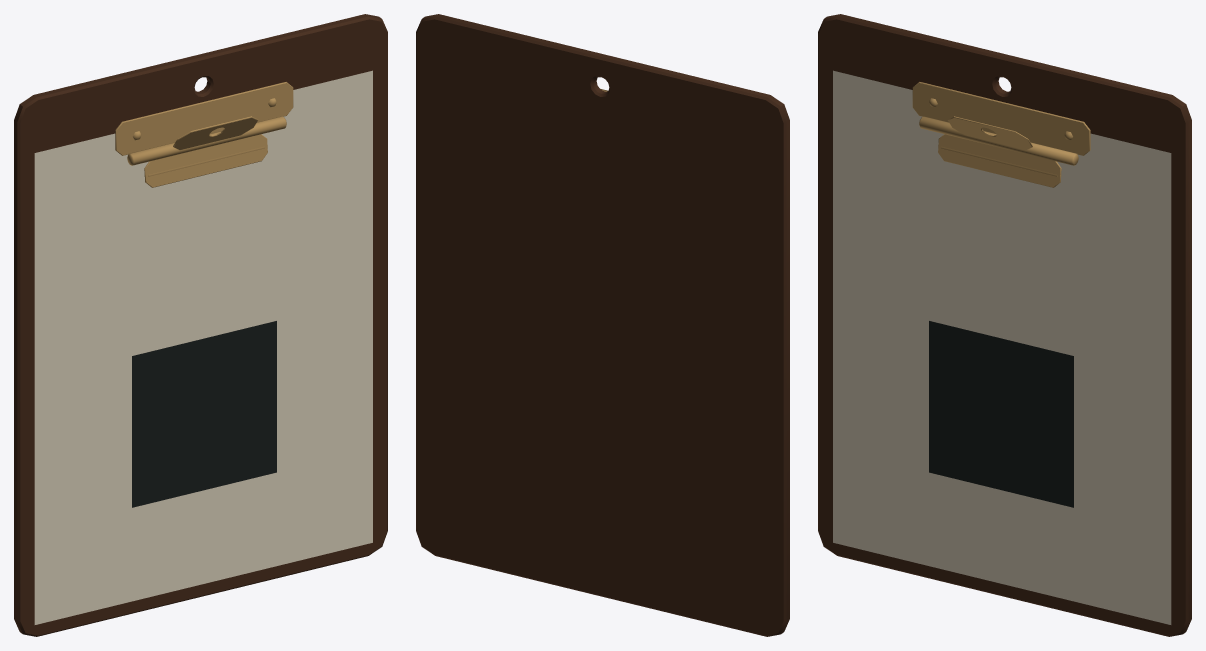
File: growth_log.glb
3 renders of one model, left to right at view 1: azimuth 30°, elevation 25°; view 2: azimuth 150°, elevation 25°; view 3: azimuth 330°, elevation 25°, orthographic.
Parts seen in each view (by area): view 1: log_page, IA_growth_log, log_sketch, log_clip; view 2: IA_growth_log; view 3: log_page, IA_growth_log, log_sketch, log_clip.
Boxes of the visible parts, x1,y1,x2,y2 form: log_page: (34, 70, 372, 624); IA_growth_log: (14, 14, 387, 636); log_sketch: (132, 321, 276, 507); log_clip: (115, 82, 293, 187); IA_growth_log: (416, 14, 789, 636); log_page: (833, 70, 1171, 624); IA_growth_log: (818, 14, 1191, 636); log_sketch: (929, 321, 1073, 507); log_clip: (912, 82, 1090, 187).
Bounding box in the file's own units: 0.23 × 0.32 × 0.025.
